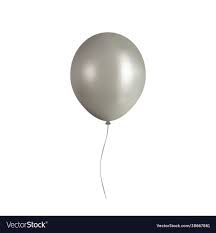Balloon: (71, 32, 146, 121)
